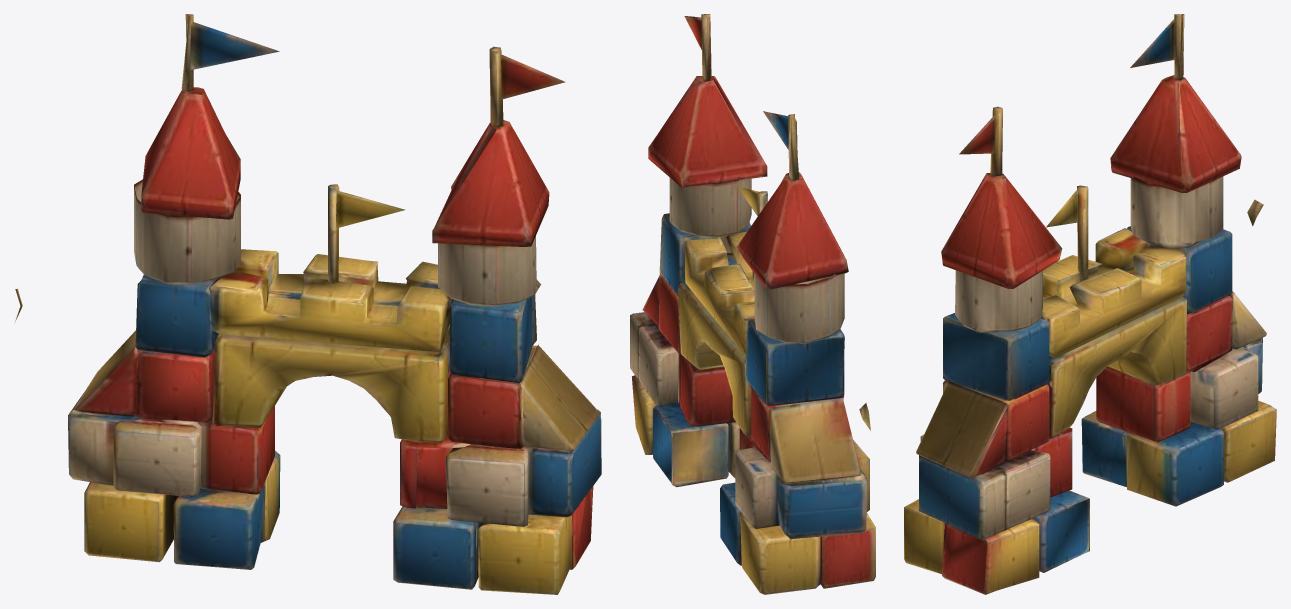
The model's file is prop_toy_fort.glb.
3 views of the same model, side by side, from view 1: azimuth 30°, elevation 25°; view 2: azimuth 150°, elevation 25°; view 3: azimuth 270°, elevation 25° (orthographic). The views are drawn at different scales.
Size of the model in its own units: 0.2329 by 0.2661 by 0.1968.
Materials: 1 (1 with a texture image).
